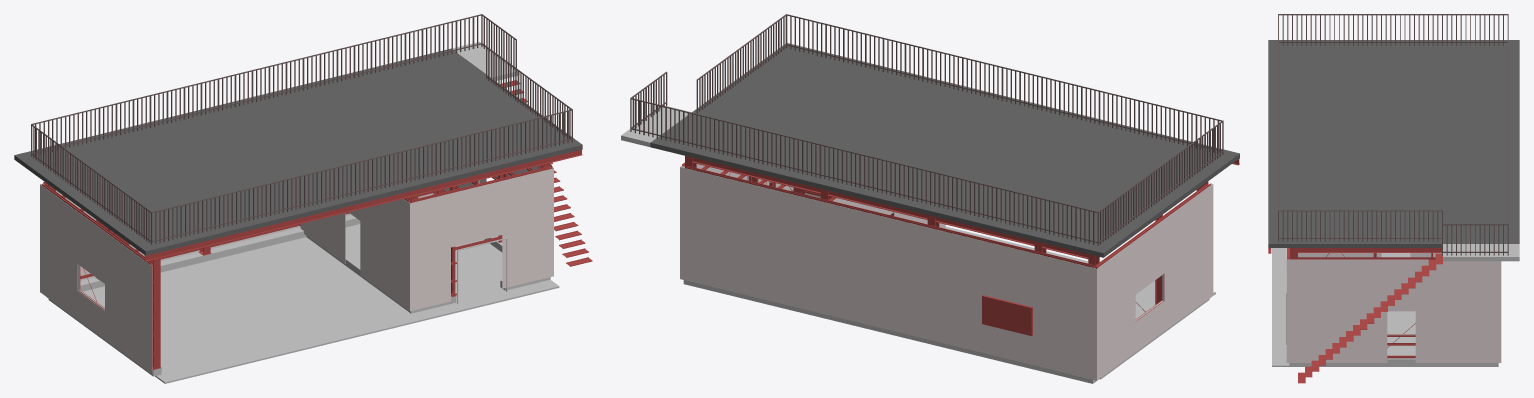
File: warehouse_centered_6.fbx
3 views of the same model, side by side, from view 1: azimuth 30°, elevation 25°; view 2: azimuth 150°, elevation 25°; view 3: azimuth 270°, elevation 25° (orthographic). The views are drawn at different scales.
Visible parts, largest first — view 1: オブジェクト_402, オブジェクト_608, オブジェクト_609, オブジェクト_403, オブジェクト_614, オブジェクト_322, オブジェクト_323, オブジェクト_321, オブジェクト_319, オブジェクト_324, オブジェクト_325, オブジェクト_318 (+30 smaller); view 2: オブジェクト_402, オブジェクト_416, オブジェクト_357, オブジェクト_363, オブジェクト_355, オブジェクト_365, オブジェクト_349, オブジェクト_366, オブジェクト_350, オブジェクト_356, オブジェクト_364, オブジェクト_358 (+45 smaller); view 3: オブジェクト_402, オブジェクト_609, オブジェクト_608, オブジェクト_338, オブジェクト_340, オブジェクト_328, オブジェクト_330, オブジェクト_332, オブジェクト_336, オブジェクト_331, オブジェクト_329, オブジェクト_339 (+15 smaller).
Boxes of the visible parts, x1,y1,x2,y2 form: オブジェクト_402: (14,48,582,255); オブジェクト_608: (47,224,504,376); オブジェクト_609: (156,279,559,383); オブジェクト_403: (144,149,582,261); オブジェクト_614: (80,214,360,291); オブジェクト_322: (502,174,528,234); オブジェクト_323: (476,181,502,240); オブジェクト_321: (502,228,528,288); オブジェクト_319: (528,168,553,228); オブジェクト_324: (451,187,476,247); オブジェクト_325: (425,193,450,253); オブジェクト_318: (425,247,450,307); オブジェクト_402: (650,43,1239,257); オブジェクト_416: (692,158,1088,259); オブジェクト_357: (802,197,829,259); オブジェクト_363: (882,216,909,278); オブジェクト_355: (775,190,802,252); オブジェクト_365: (909,223,936,285); オブジェクト_349: (695,171,722,233); オブジェクト_366: (909,279,936,341); オブジェクト_350: (695,227,722,289); オブジェクト_356: (775,246,802,308); オブジェクト_364: (882,272,909,334); オブジェクト_358: (802,253,829,315); オブジェクト_402: (1268,40,1519,247); オブジェクト_609: (1272,248,1289,366); オブジェクト_608: (1289,253,1498,366); オブジェクト_338: (1330,259,1358,311); オブジェクト_340: (1302,259,1330,311); オブジェクト_328: (1472,311,1500,362); オブジェクト_330: (1444,311,1472,362); オブジェクト_332: (1415,311,1443,362); オブジェクト_336: (1358,259,1387,311); オブジェクト_331: (1444,261,1472,311); オブジェクト_329: (1472,261,1500,311); オブジェクト_339: (1302,311,1330,362).
Bounding box in the file's own units: 16420 × 5795 × 8039.
